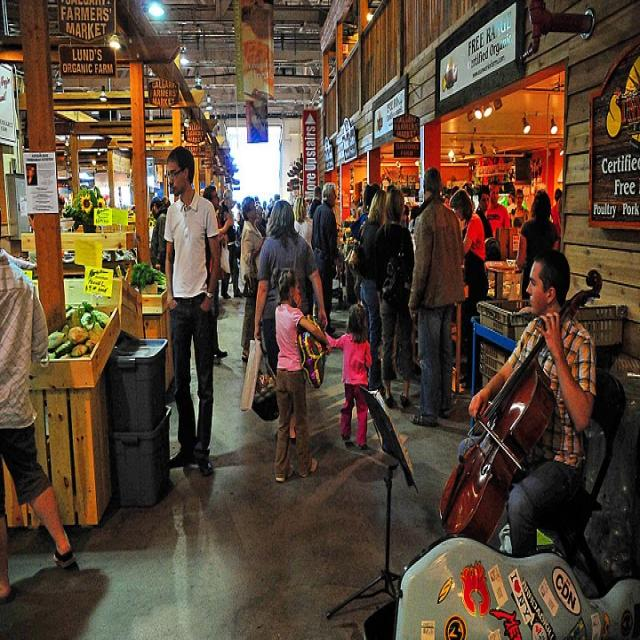cello: (437, 268, 604, 542)
